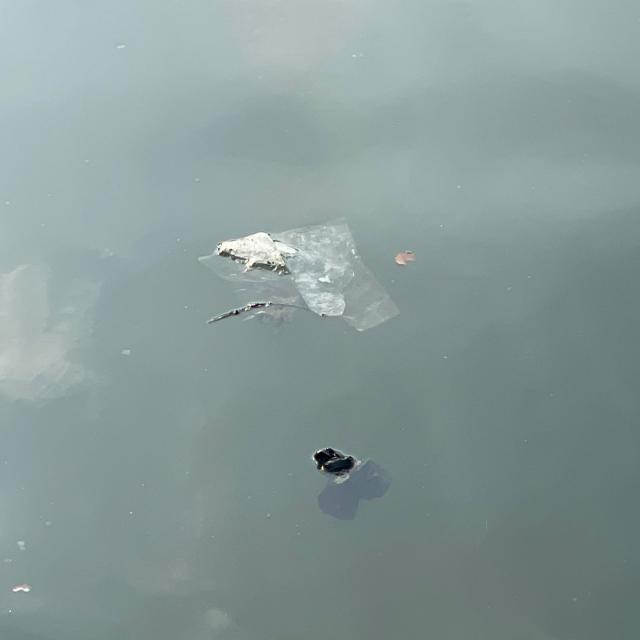Kantong Plastik: (192, 216, 402, 347), (302, 435, 396, 527)
